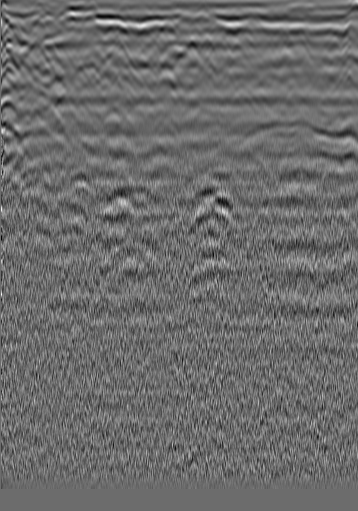가스: (97, 187, 145, 223)
상수: (318, 22, 338, 42)
우수: (181, 41, 201, 61)
